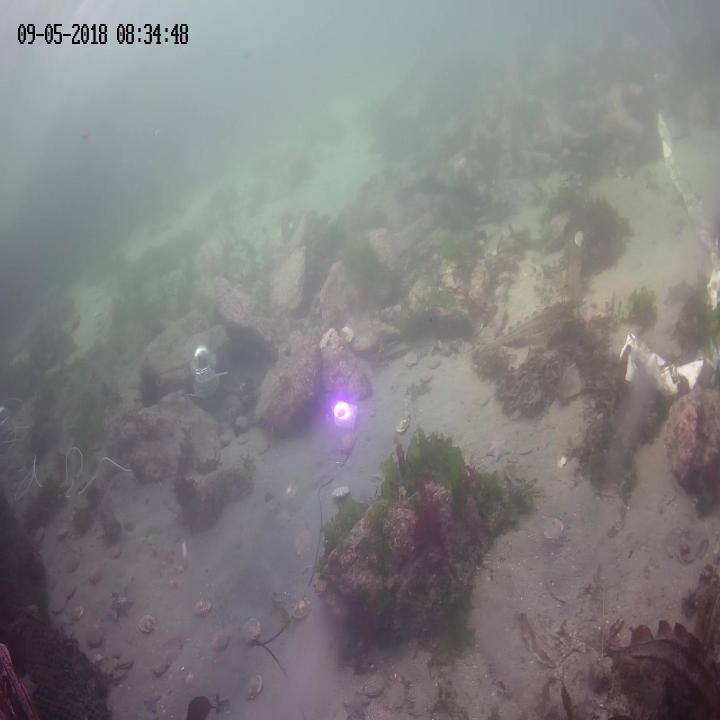scallop: (545, 513, 564, 547), (291, 590, 311, 621), (295, 524, 314, 556), (387, 678, 403, 714), (84, 623, 106, 649), (241, 614, 259, 644), (245, 671, 263, 700), (367, 671, 384, 699), (212, 626, 229, 652), (139, 611, 156, 637), (192, 597, 214, 617), (338, 432, 356, 456), (332, 483, 351, 504), (50, 592, 66, 616), (60, 578, 77, 598), (255, 436, 270, 458), (396, 416, 411, 437), (218, 431, 233, 450), (113, 668, 125, 688), (56, 527, 70, 543), (87, 566, 97, 586), (119, 654, 133, 668), (237, 428, 248, 443), (74, 600, 82, 620)
starfish: (342, 690, 369, 720), (486, 435, 512, 463)
